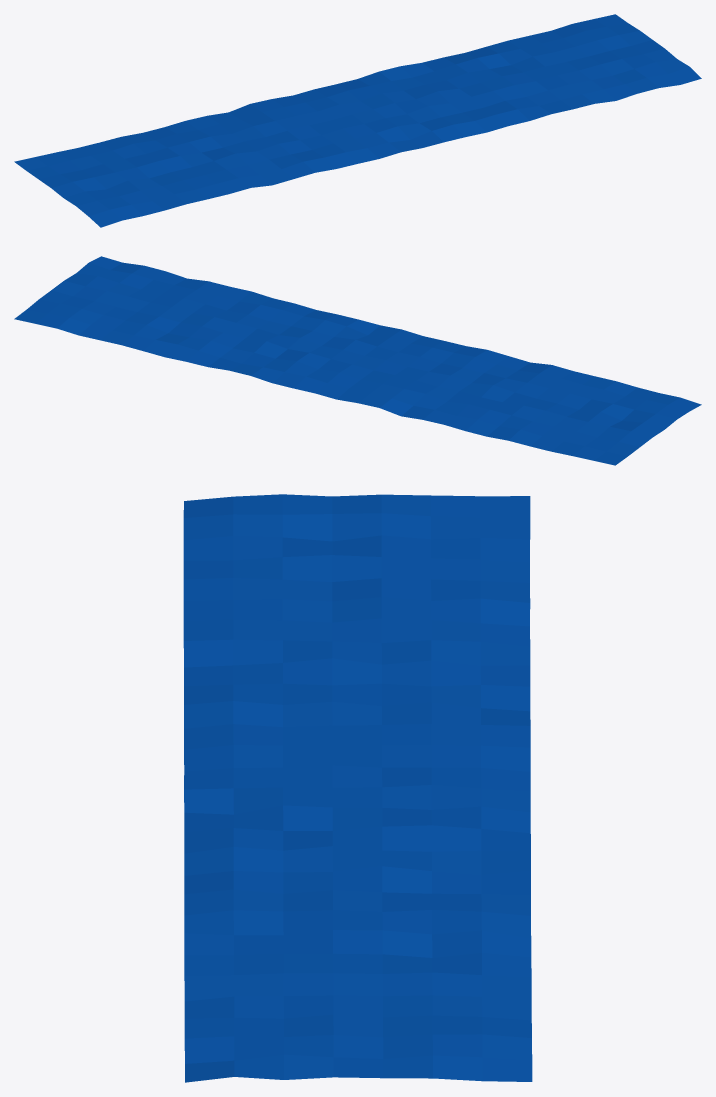
File: Water1.fbx
The picture shows the model from 3 angles, top to bottom: view 1: azimuth 30°, elevation 25°; view 2: azimuth 150°, elevation 25°; view 3: azimuth 270°, elevation 25°; orthographic projection. The views are drawn at different scales.
Parts seen in each view (by area): view 1: Water - Arena; view 2: Water - Arena; view 3: Water - Arena.
Part boxes in pixels (x1,y1,x2,y2): Water - Arena: (14,14,701,227); Water - Arena: (14,256,701,465); Water - Arena: (183,494,532,1082).
Bounding box in the file's own units: 4299 × 43.12 × 1080.
